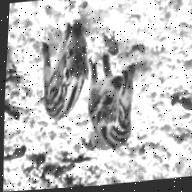boar: (37, 21, 93, 123), (83, 52, 138, 155)
